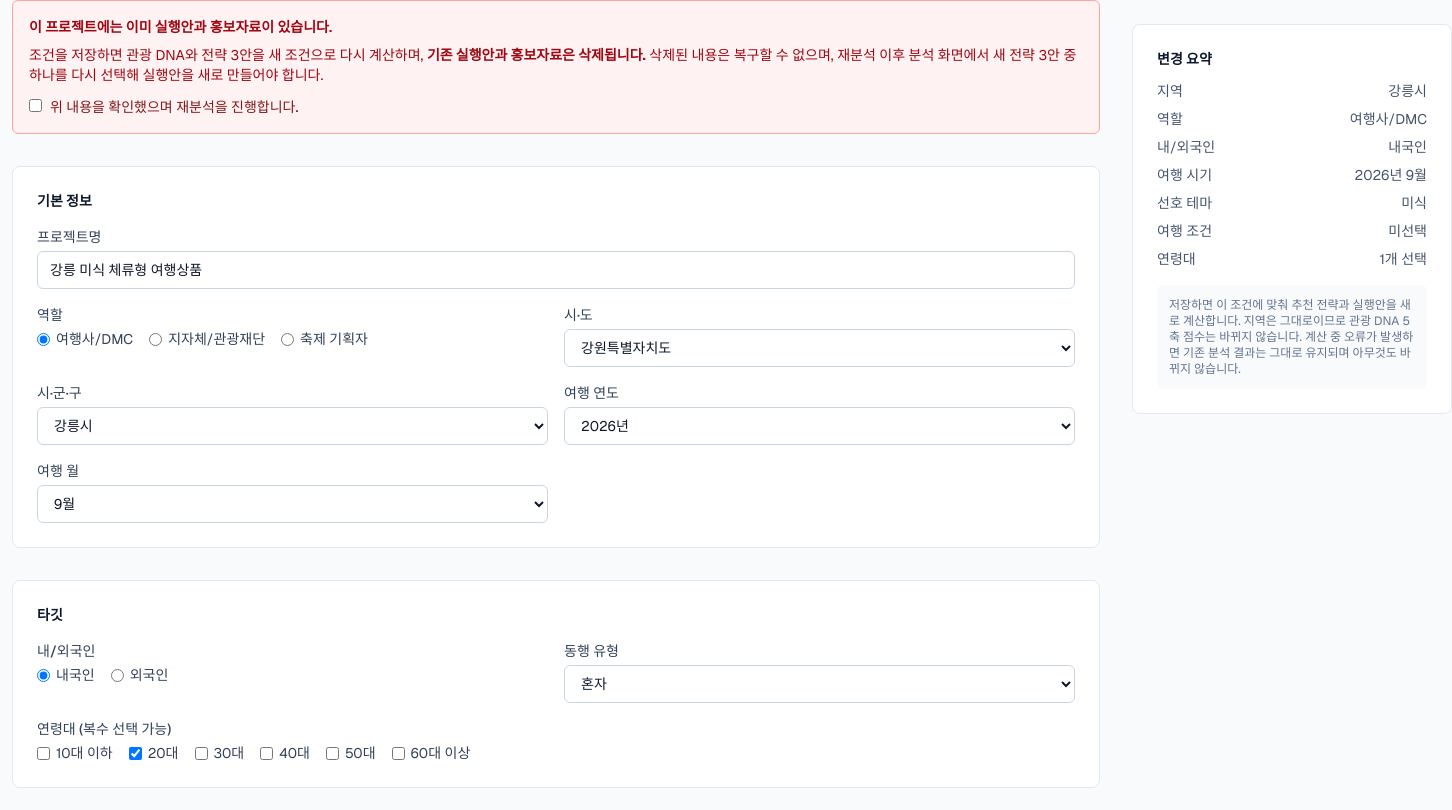
Test: ProjectEditForm — 현재 값 프리로드 및 변경사항 미리보기 › 실행안(홍보자료 포함)이 있으면 확인 체크 없이는 제출 버튼이 비활성화된다
Click the checkbox labelled "위 내용을 확인했으며 재분석을 진행합니다." at (36, 106), box [29,99,42,112]
(page scrolled)
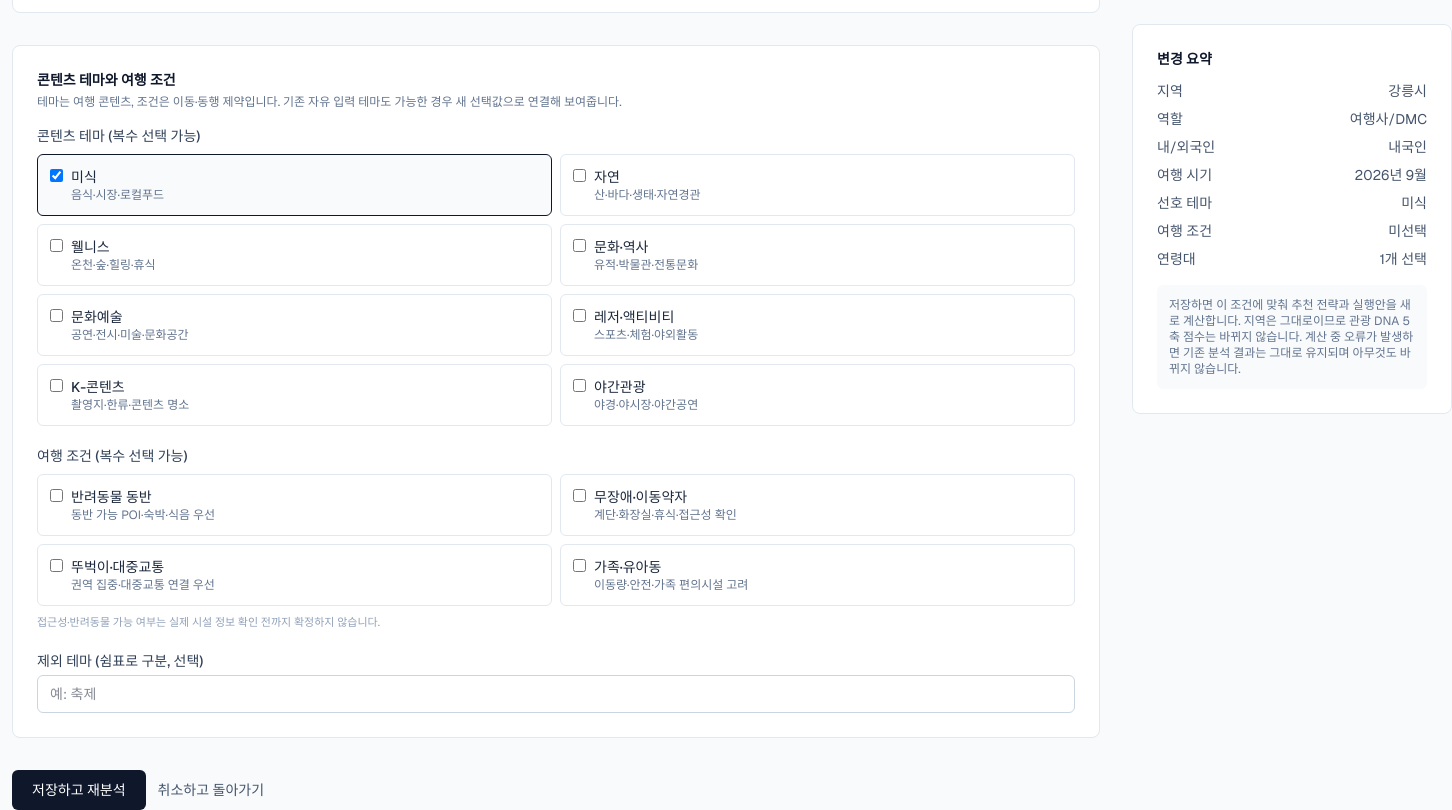
Now the button "저장하고 재분석" is enabled, box [12,770,146,809]
